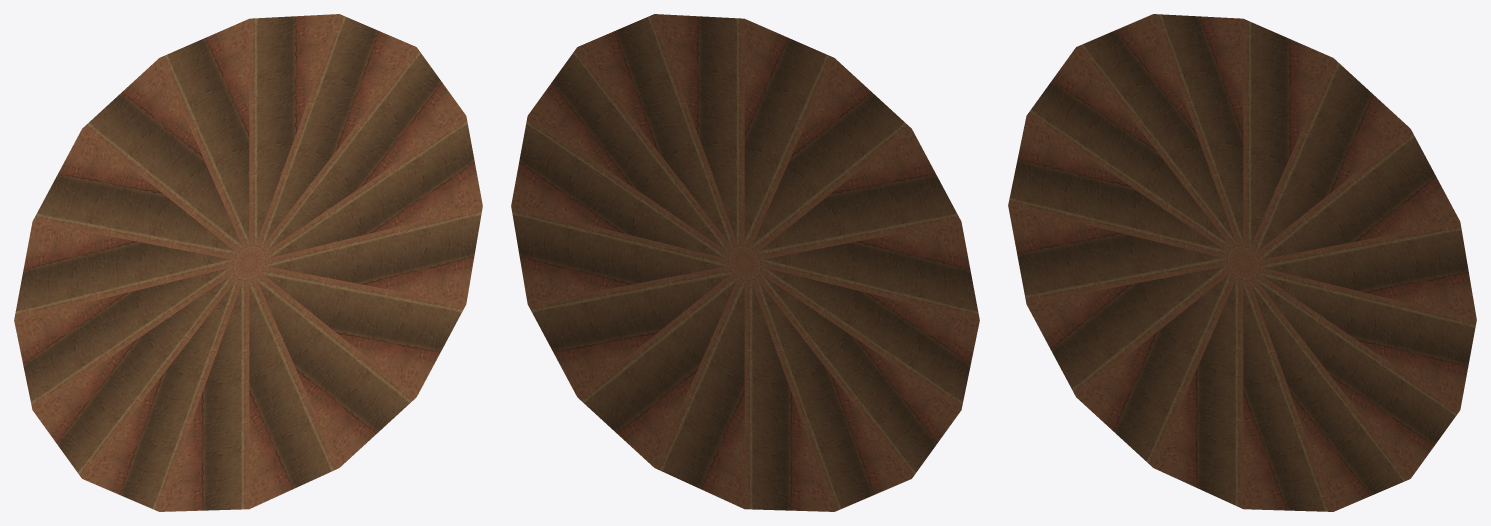
Rendered from jng-iris-door-lod1.glb.
3 renders of one model, left to right at view 1: azimuth 30°, elevation 25°; view 2: azimuth 150°, elevation 25°; view 3: azimuth 330°, elevation 25°, orthographic.
Visible parts, largest first — view 1: jng-iris-door-lod1; view 2: jng-iris-door-lod1; view 3: jng-iris-door-lod1.
Boxes of the visible parts, x1,y1,x2,y2 form: jng-iris-door-lod1: (14,14,482,511); jng-iris-door-lod1: (511,14,979,511); jng-iris-door-lod1: (1008,14,1476,511).
Bounding box in the file's own units: 7.97 × 7.97 × 0.
Materials: 1 (1 with a texture image).
